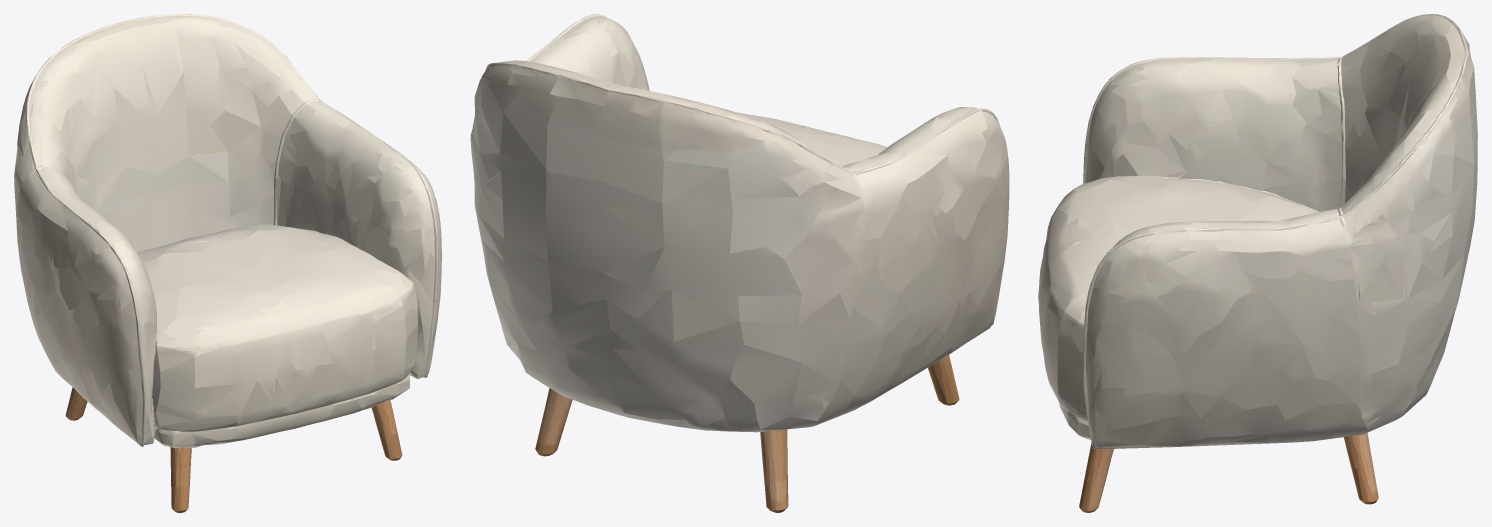
The model's file is armchair.glb.
3 views of the same model, side by side, from view 1: azimuth 30°, elevation 25°; view 2: azimuth 150°, elevation 25°; view 3: azimuth 270°, elevation 25° (orthographic). The views are drawn at different scales.
Size of the model in its own units: 1.9 by 1.83 by 1.83.
1 material, 1 textured.
